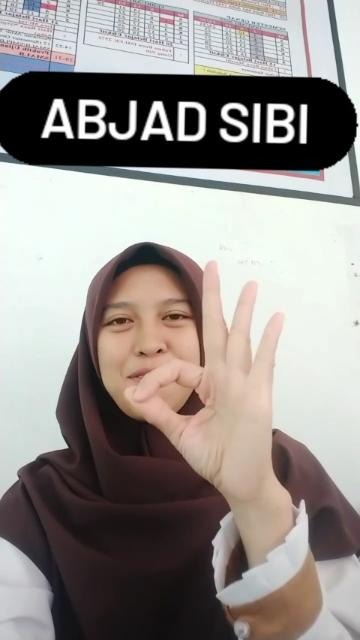F: (123, 258, 287, 498)
